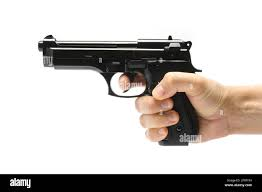gun: (38, 33, 203, 148)
